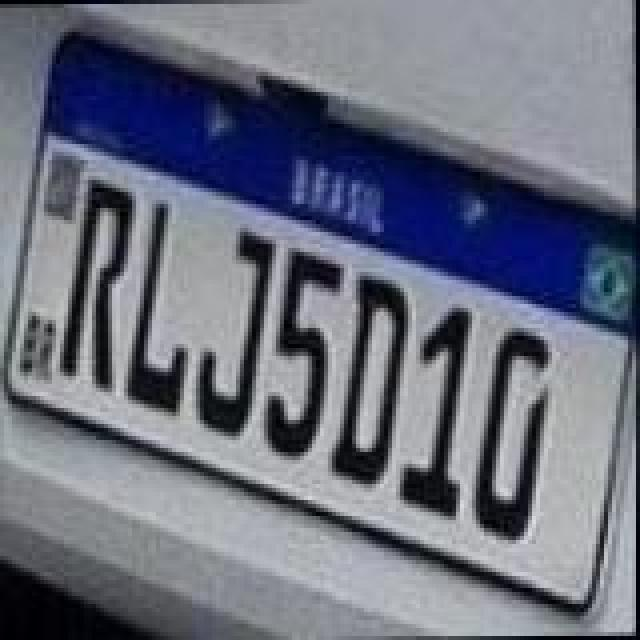1: (396, 304, 476, 524)
5: (260, 244, 352, 460)
D: (466, 328, 558, 544), (328, 270, 416, 490)
J: (194, 230, 282, 446)
L: (124, 196, 192, 416)
R: (52, 174, 136, 394)
